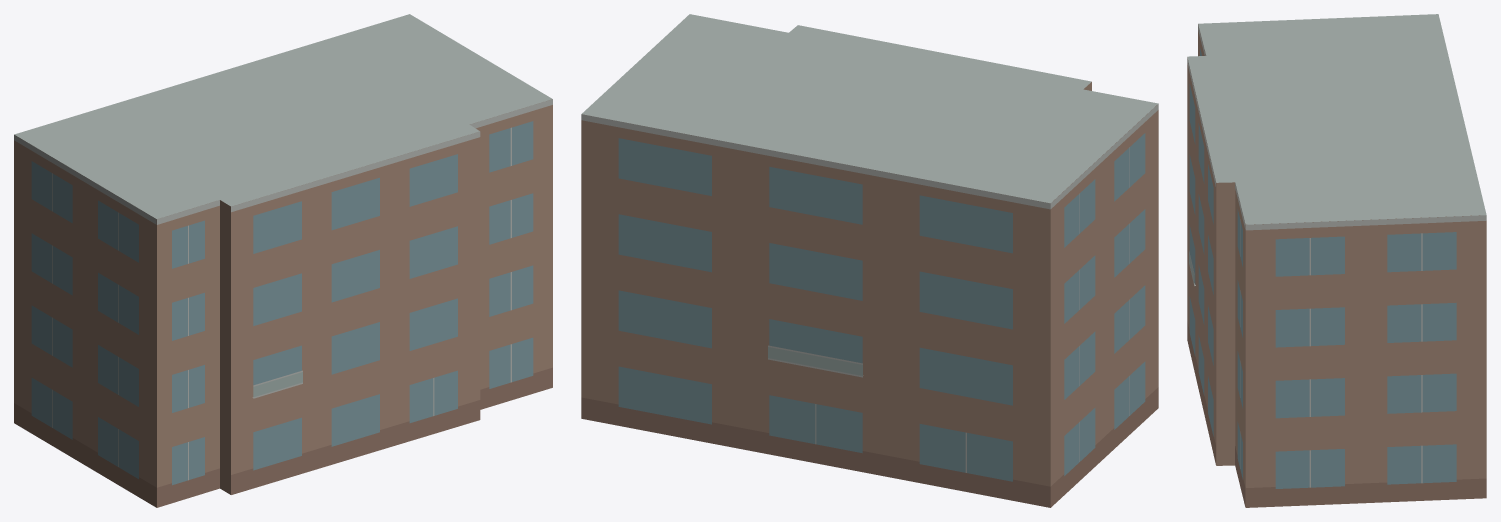
Rendered from survey-upis-32654909.glb.
3 views of the same model, side by side, from view 1: azimuth 30°, elevation 25°; view 2: azimuth 150°, elevation 25°; view 3: azimuth 270°, elevation 25° (orthographic). The views are drawn at different scales.
Parts seen in each view (by area): view 1: survey-upis-32654909.tmp; view 2: survey-upis-32654909.tmp; view 3: survey-upis-32654909.tmp.
Part boxes in pixels (left/top/right/bottom): survey-upis-32654909.tmp: left=14, top=14, right=552, bottom=507; survey-upis-32654909.tmp: left=581, top=14, right=1158, bottom=507; survey-upis-32654909.tmp: left=1187, top=14, right=1486, bottom=507.
Bounding box in the file's own units: 19.49 × 12.2 × 11.7.
